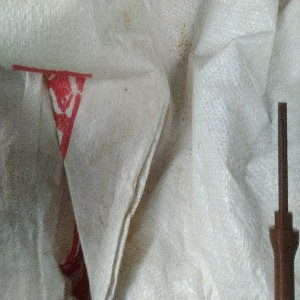obeng: (268, 100, 300, 300)
